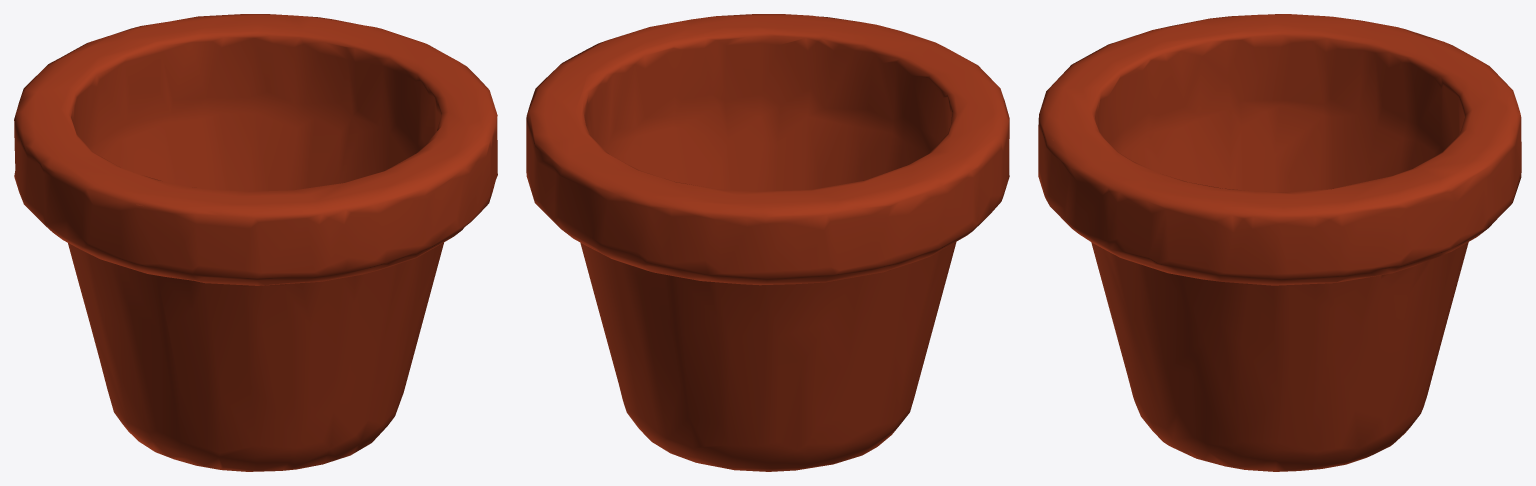
Rendered from gen3d-flower-pot-lod0.glb.
3 renders of one model, left to right at view 1: azimuth 30°, elevation 25°; view 2: azimuth 150°, elevation 25°; view 3: azimuth 270°, elevation 25°, orthographic.
Visible parts, largest first — view 1: part_0; view 2: part_0; view 3: part_0.
Part boxes in pixels (x1,y1,x2,y2): part_0: [14, 14, 497, 471]; part_0: [526, 14, 1009, 471]; part_0: [1038, 14, 1521, 471].
Bounding box in the file's own units: 1.43 × 1 × 1.43.
